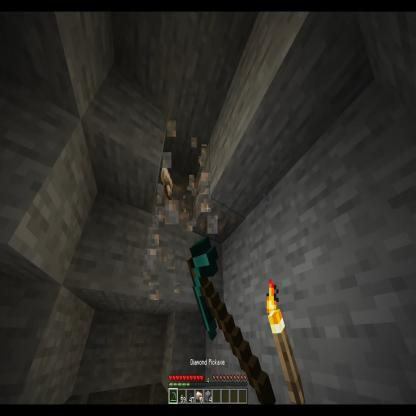iron ore: (191, 151, 246, 248), (152, 164, 195, 236)
